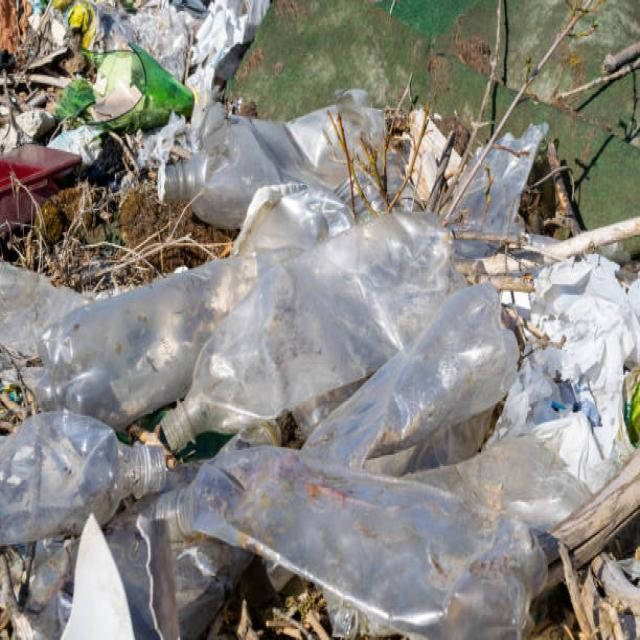plastic: (29, 264, 565, 621)
